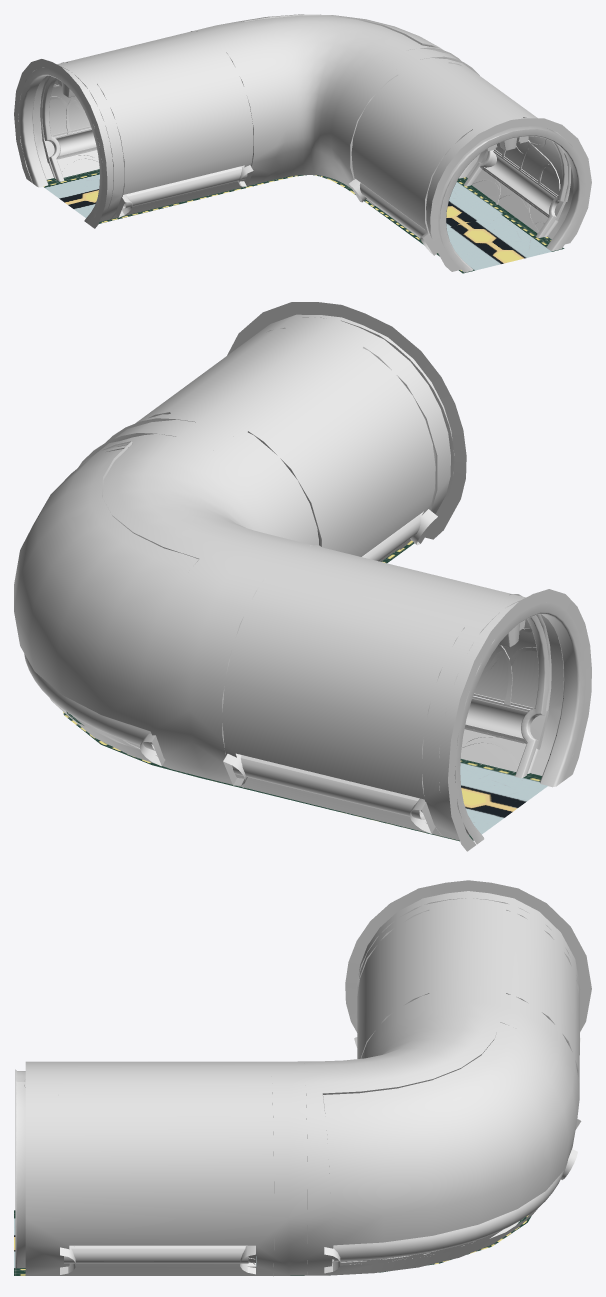
The model's file is Hallway_Final_Bend.fbx.
The picture shows the model from 3 angles, top to bottom: view 1: azimuth 30°, elevation 25°; view 2: azimuth 150°, elevation 25°; view 3: azimuth 270°, elevation 25°; orthographic projection. The views are drawn at different scales.
Parts seen in each view (by area): view 1: polySurface7680; view 2: polySurface7680; view 3: polySurface7680.
Boxes of the visible parts, bbox=[...] form: polySurface7680: bbox=[14, 14, 591, 273]; polySurface7680: bbox=[14, 302, 591, 851]; polySurface7680: bbox=[14, 880, 591, 1276].
Bounding box in the file's own units: 2104 × 762 × 2191.
6 materials, 1 textured.
